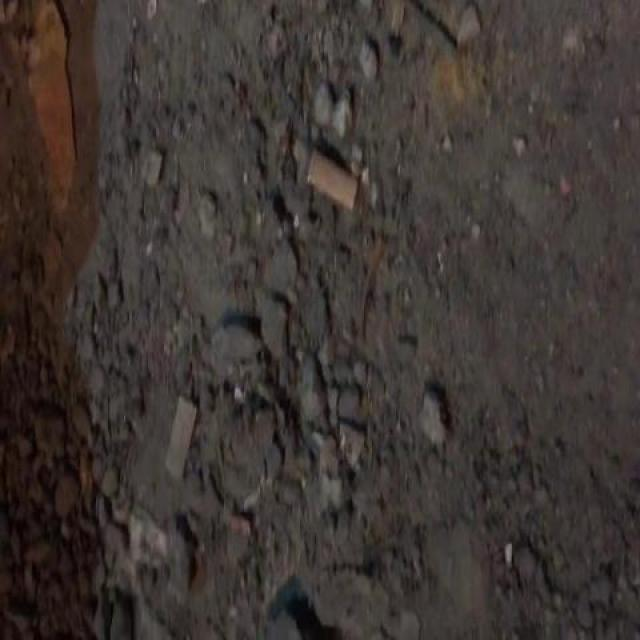non-organic waste: (300, 141, 361, 218)
